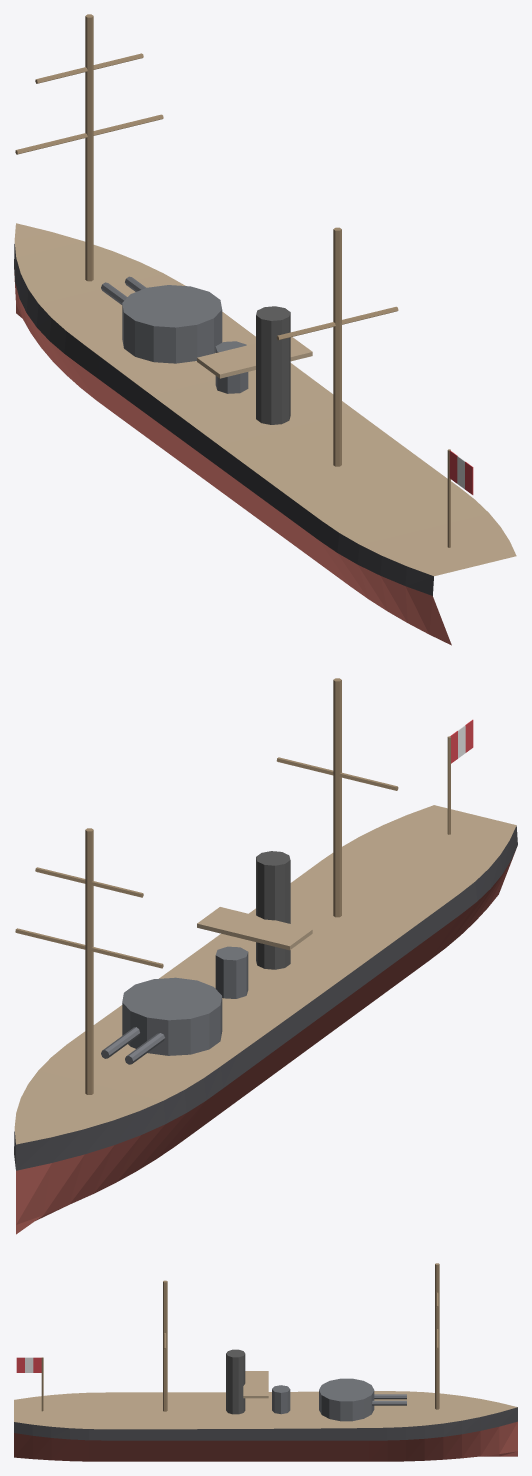
File: huascar.glb
3 views of the same model, one above another, from view 1: azimuth 30°, elevation 25°; view 2: azimuth 150°, elevation 25°; view 3: azimuth 270°, elevation 25° (orthographic). The views are drawn at different scales.
Visible parts, largest first — view 1: huascar; view 2: huascar; view 3: huascar.
Part boxes in pixels (bbox=[...]): huascar: bbox=[14, 14, 516, 645]; huascar: bbox=[14, 678, 517, 1234]; huascar: bbox=[14, 1263, 517, 1461].
Size of the model in its own units: 11 by 25.29 by 60.
